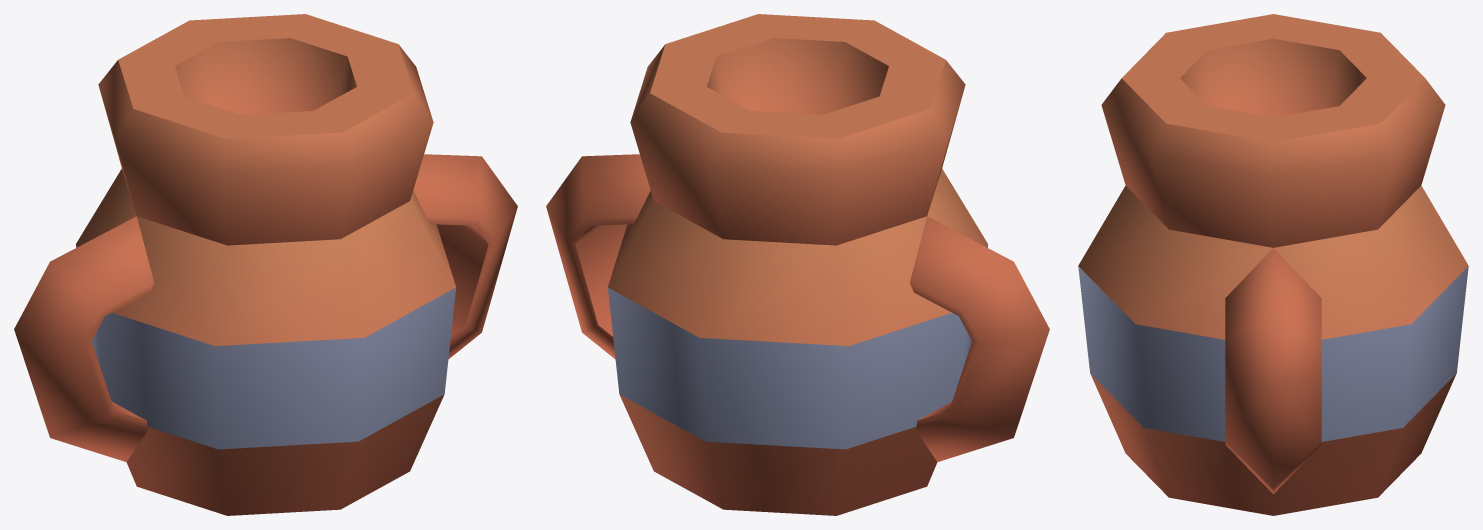
3 views of the same model, side by side, from view 1: azimuth 30°, elevation 25°; view 2: azimuth 150°, elevation 25°; view 3: azimuth 270°, elevation 25° (orthographic).
Parts seen in each view (by area): view 1: pot; view 2: pot; view 3: pot.
Part boxes in pixels (left/top/right/bottom): pot: left=14, top=14, right=517, bottom=515; pot: left=546, top=14, right=1049, bottom=515; pot: left=1078, top=14, right=1468, bottom=515.
Size of the model in its own units: 0.5996 by 0.4305 by 0.4059.
Materials: 1 (1 with a texture image).
